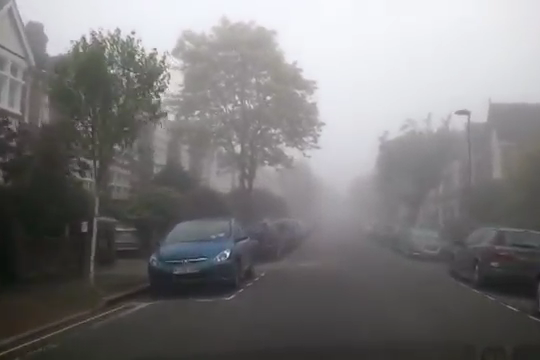car: (146, 216, 260, 295), (447, 223, 540, 291), (394, 224, 446, 261), (236, 221, 279, 262), (101, 223, 144, 256), (266, 218, 296, 255)
